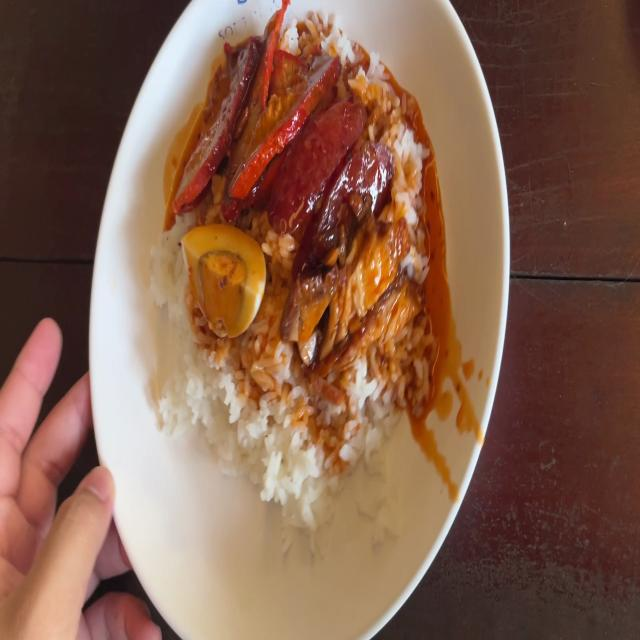red_pork_and_crispy_pork: (193, 234, 260, 332)
stir_fried_basil: (286, 122, 368, 242)
